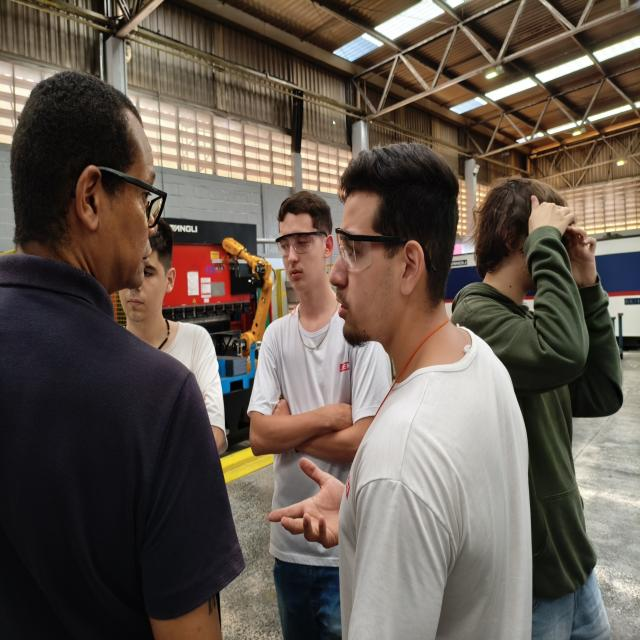oculos-epi: (336, 228, 414, 272), (276, 231, 326, 258), (425, 253, 435, 271)
sem_oculos: (76, 132, 185, 222), (140, 257, 177, 295)
